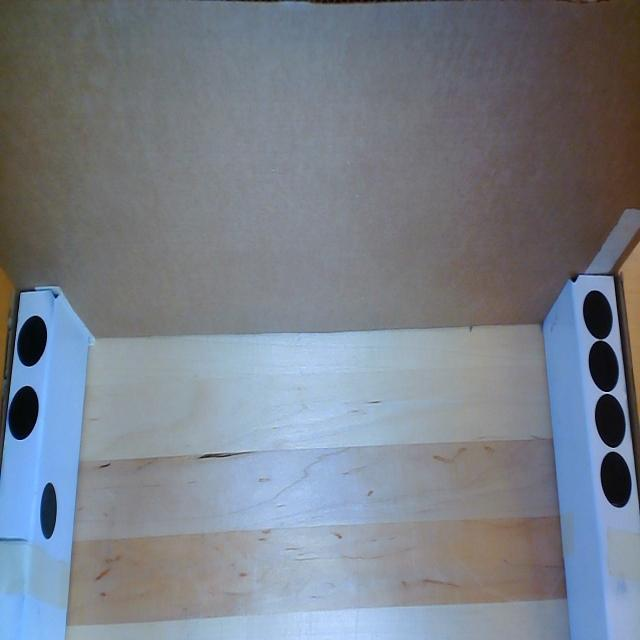Sticker: (600, 448, 633, 513), (592, 392, 628, 451), (16, 312, 48, 374), (586, 339, 621, 394), (9, 384, 40, 442), (582, 286, 614, 341), (40, 479, 59, 542)
